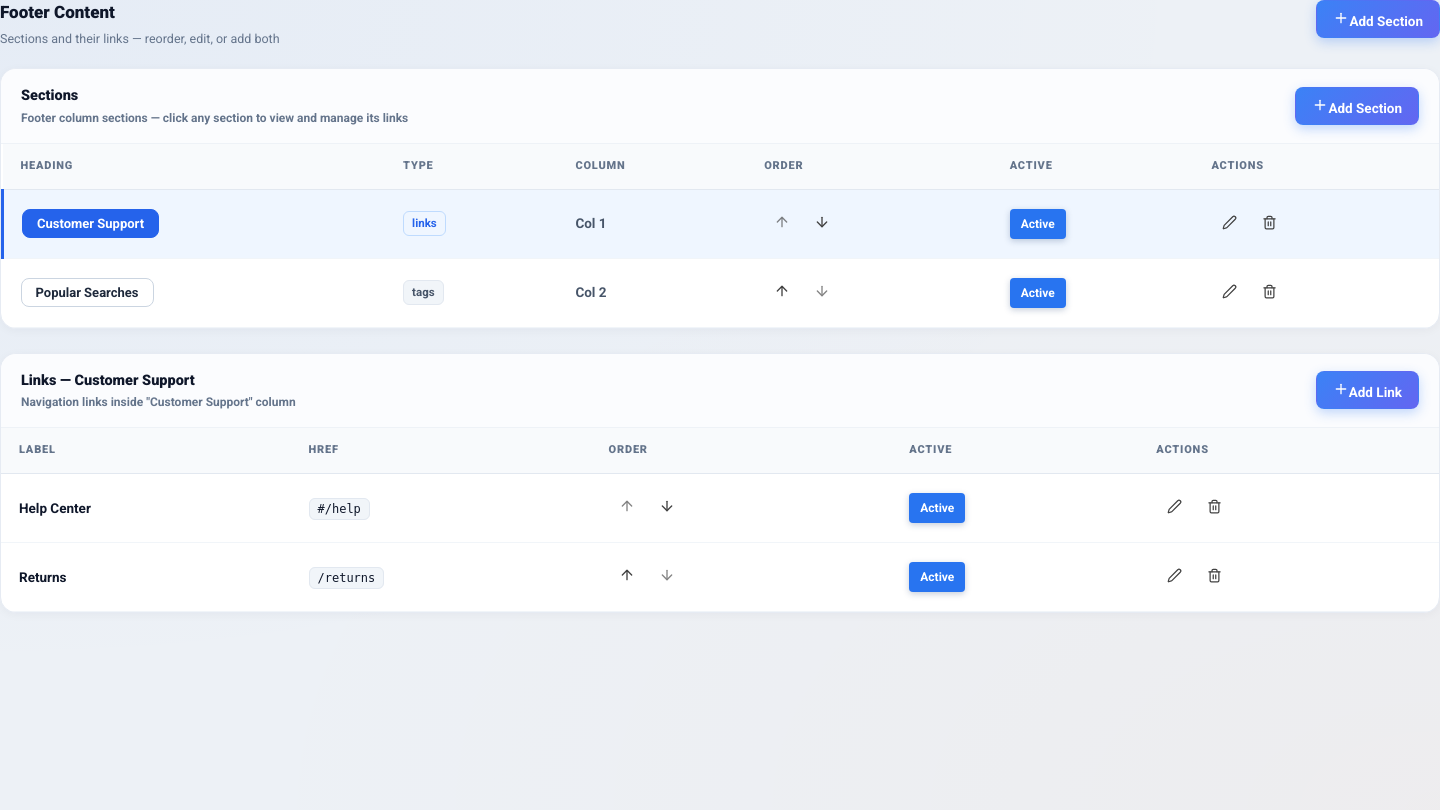
Test case: FooterEditor › steers admins to hash routes in the href hint
Expected: the text "Help Center" is shown, x1=1 y1=473 x2=290 y2=542
Click the button named "Edit link Help Center" at (1174, 508), box x1=1156 y1=490 x2=1192 y2=526
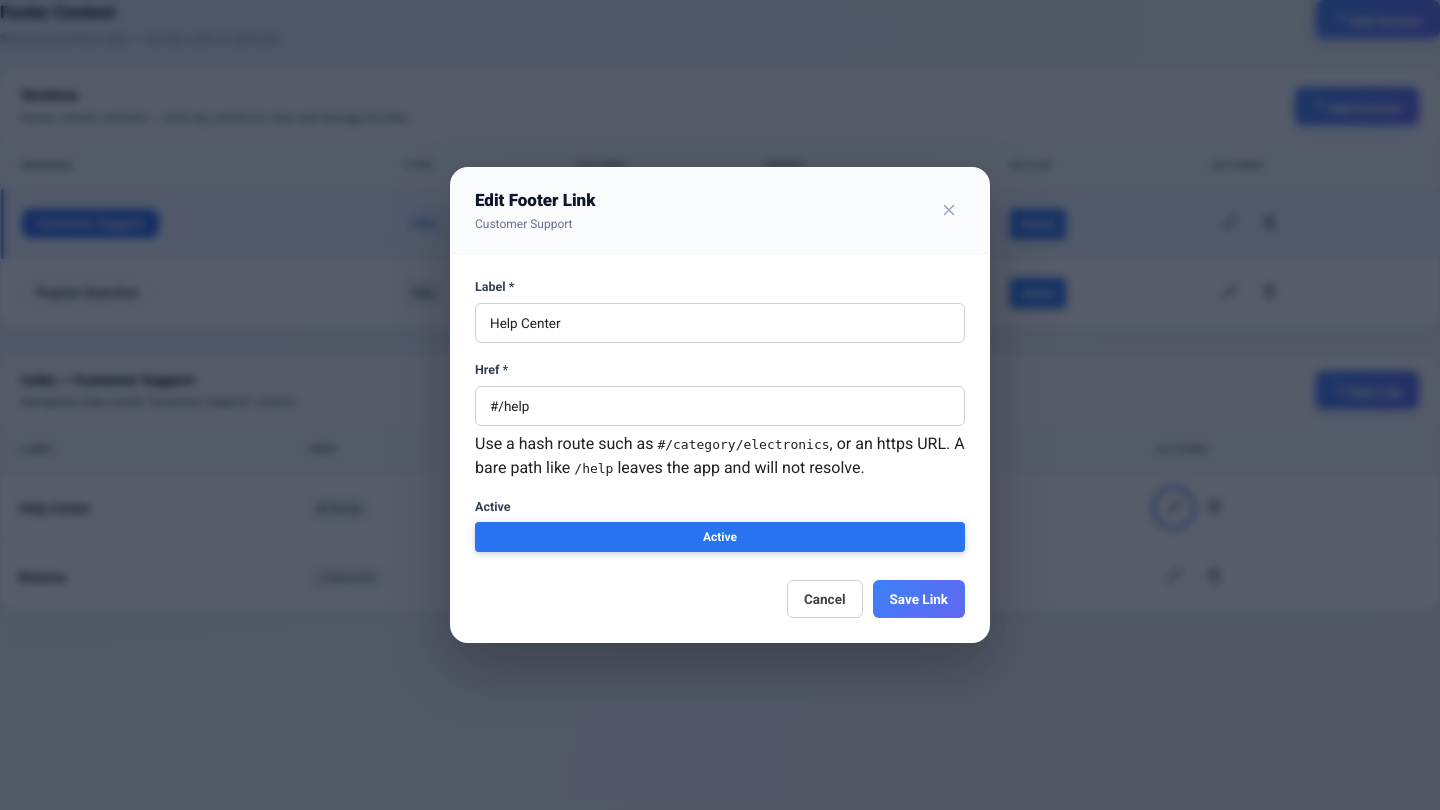
Now the text "#/category/electronics" is shown, box x1=657 y1=437 x2=830 y2=452
Now the text "leaves the app" is shown, box x1=614 y1=458 x2=865 y2=477
